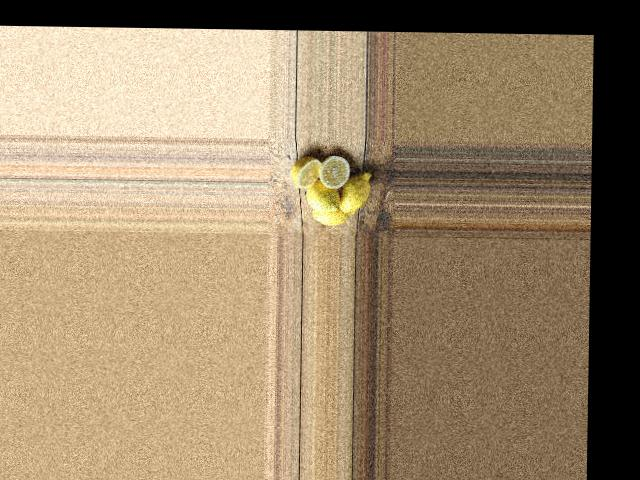lemon: (338, 169, 375, 215)
